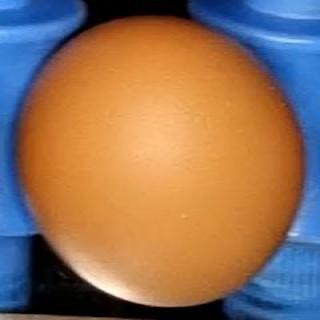Telur: (11, 13, 311, 308)
